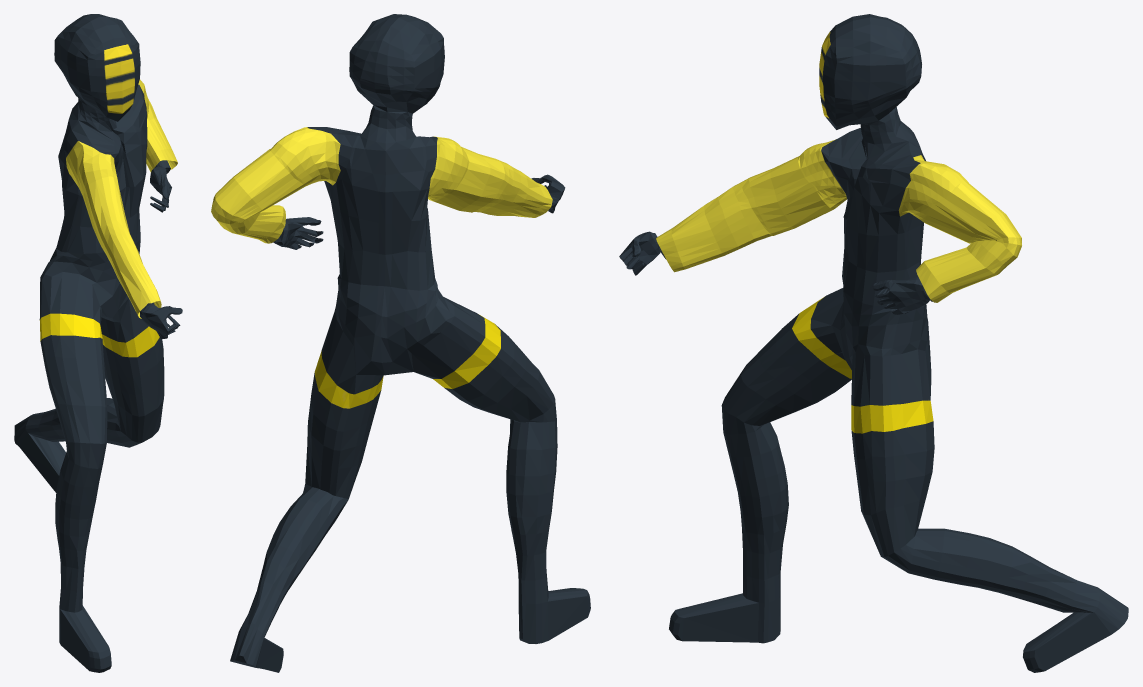
Rendered from Sentry_WL_000008.obj.
The picture shows the model from 3 angles, left to right: view 1: azimuth 30°, elevation 25°; view 2: azimuth 150°, elevation 25°; view 3: azimuth 270°, elevation 25°; orthographic projection. The views are drawn at different scales.
Visible parts, largest first — view 1: Cube; view 2: Cube; view 3: Cube.
Boxes of the visible parts, <box> form: Cube: <box>14,14,182,672</box>; Cube: <box>211,14,590,672</box>; Cube: <box>619,14,1128,672</box>.
Bounding box in the file's own units: 1.3 × 3.6 × 2.51.
